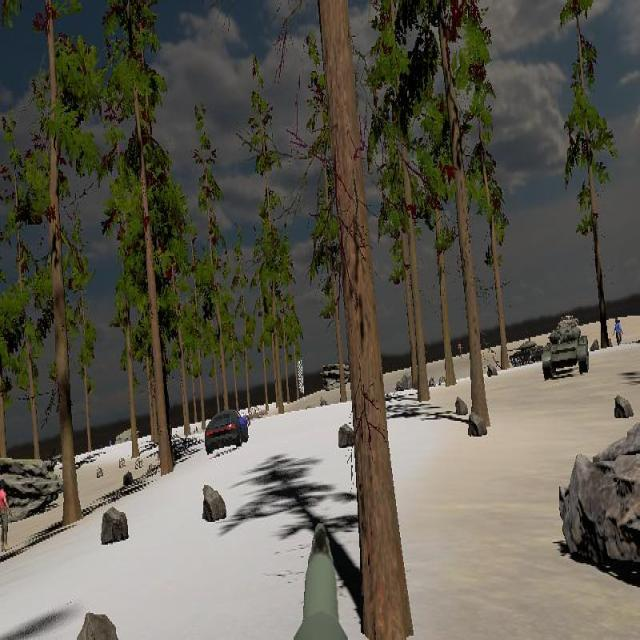Human: (0, 478, 12, 553)
Tank: (542, 324, 589, 380), (507, 337, 544, 367)
car: (205, 409, 249, 454)
